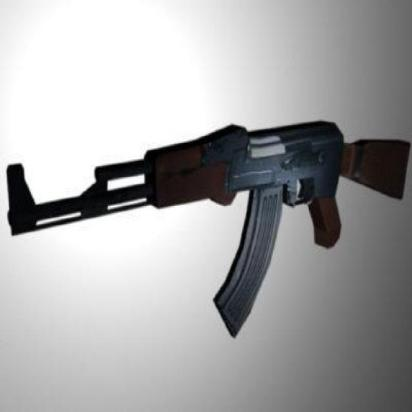Gun: (6, 111, 412, 345)
